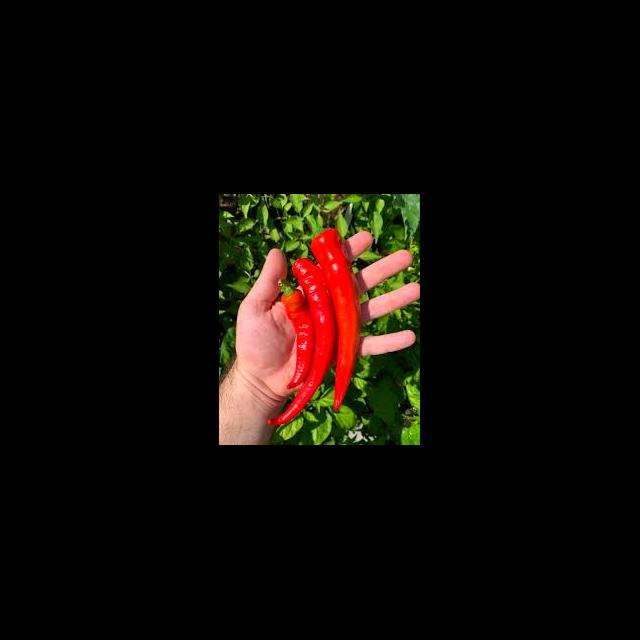chili_pepper: (310, 228, 360, 417), (285, 295, 311, 389)
